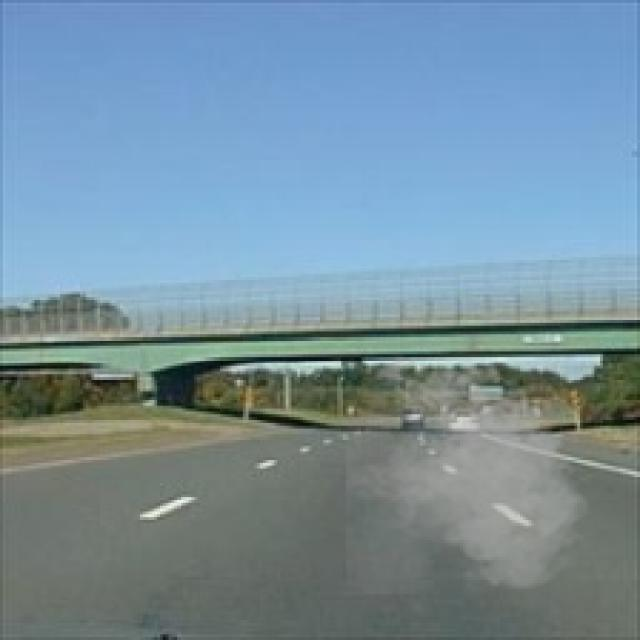smoke: (346, 349, 597, 597)
